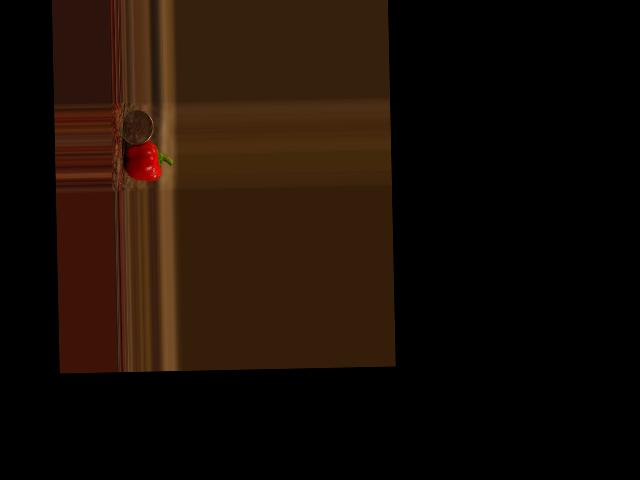bell_pepper: (122, 142, 173, 181)
